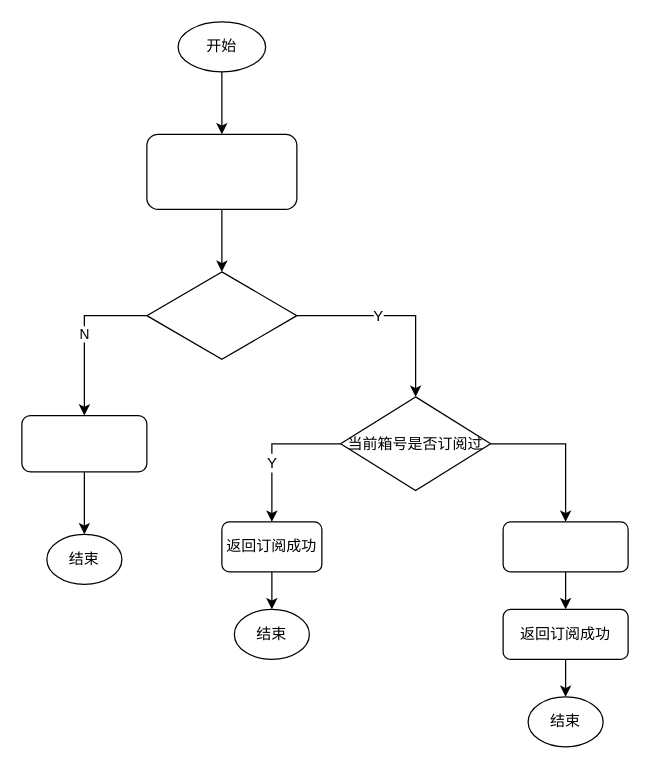
Image size: 650x769. Some labels were removed from this diagram. Here are the shapes that lost their labels. From the top down, the centre of each, then its label:
At (221,171): "接受用户账户信息、箱号".
At (221,315): "账户信息是否正确".
At (84,443): "返回账号信息错误".
At (565,546): "保存需订阅的箱号".
